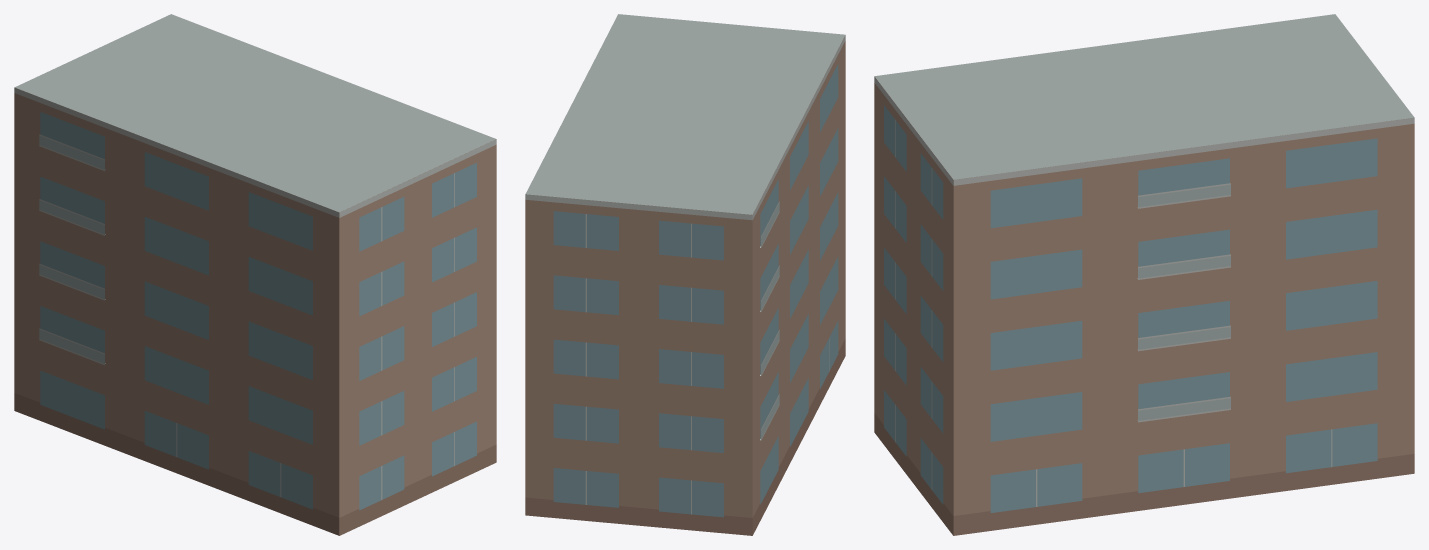
The model's file is survey-upis-32619679.glb.
3 views of the same model, side by side, from view 1: azimuth 30°, elevation 25°; view 2: azimuth 150°, elevation 25°; view 3: azimuth 270°, elevation 25° (orthographic). The views are drawn at different scales.
Parts seen in each view (by area): view 1: survey-upis-32619679.tmp; view 2: survey-upis-32619679.tmp; view 3: survey-upis-32619679.tmp.
Boxes of the visible parts, x1,y1,x2,y2 form: survey-upis-32619679.tmp: (14,14,496,535); survey-upis-32619679.tmp: (525,14,845,535); survey-upis-32619679.tmp: (874,14,1414,535).
Bounding box in the file's own units: 14.4 × 14.4 × 19.82.
